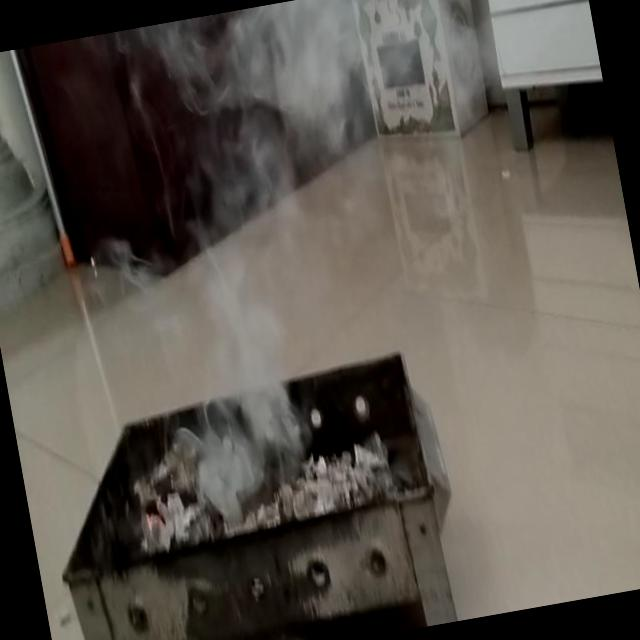smoke: (138, 9, 319, 467)
